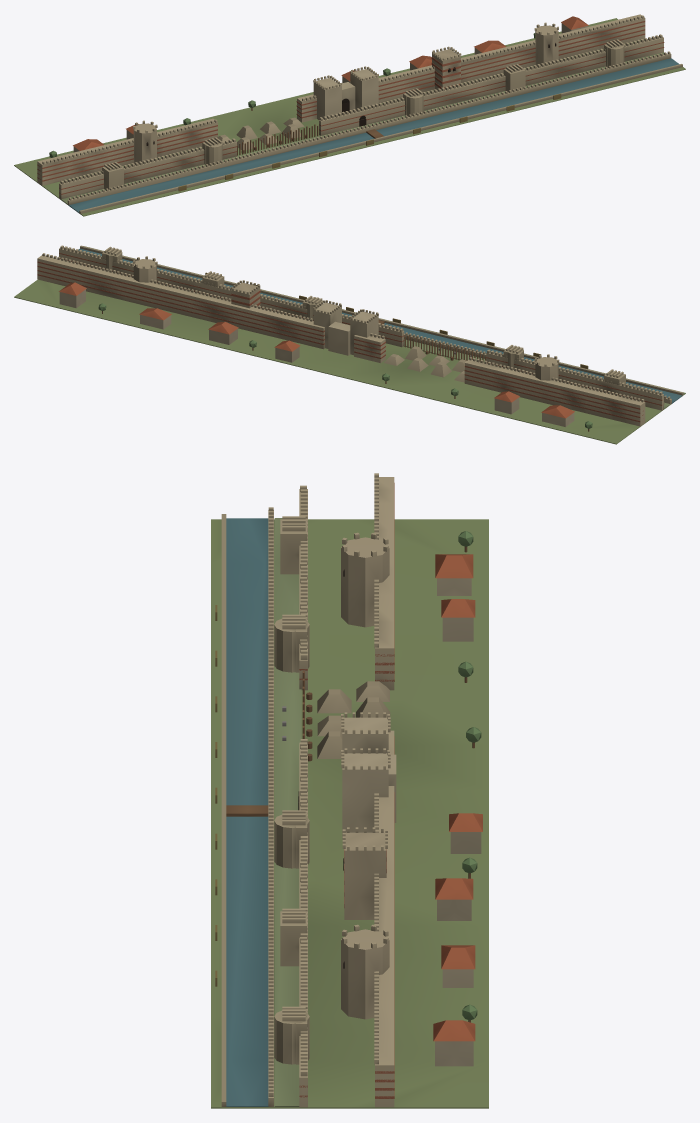
Rendered from theodosian-walls-1453.glb.
3 renders of one model, top to bottom at view 1: azimuth 30°, elevation 25°; view 2: azimuth 150°, elevation 25°; view 3: azimuth 270°, elevation 25°, orthographic. The views are drawn at different scales.
Visible parts, largest first — view 1: p0_moat, p2_inner wall, p1_outer wall, p3_town; view 2: p2_inner wall, p0_moat, p1_outer wall, p3_town; view 3: p0_moat, p2_inner wall, p3_town, p1_outer wall.
Boxes of the visible parts, box(x1,y1,x2,y2) form: p0_moat: box(14, 18, 685, 216); p2_inner wall: box(37, 14, 645, 185); p1_outer wall: box(59, 34, 664, 199); p3_town: box(49, 16, 588, 191); p2_inner wall: box(37, 253, 645, 426); p0_moat: box(14, 245, 685, 444); p1_outer wall: box(59, 245, 664, 410); p3_town: box(59, 272, 592, 431); p0_moat: box(211, 507, 488, 1108); p2_inner wall: box(226, 473, 396, 1107); p3_town: box(215, 531, 482, 1066); p1_outer wall: box(274, 485, 309, 1107).
Bounding box in the file's own units: 360 × 21.7 × 71.99.
